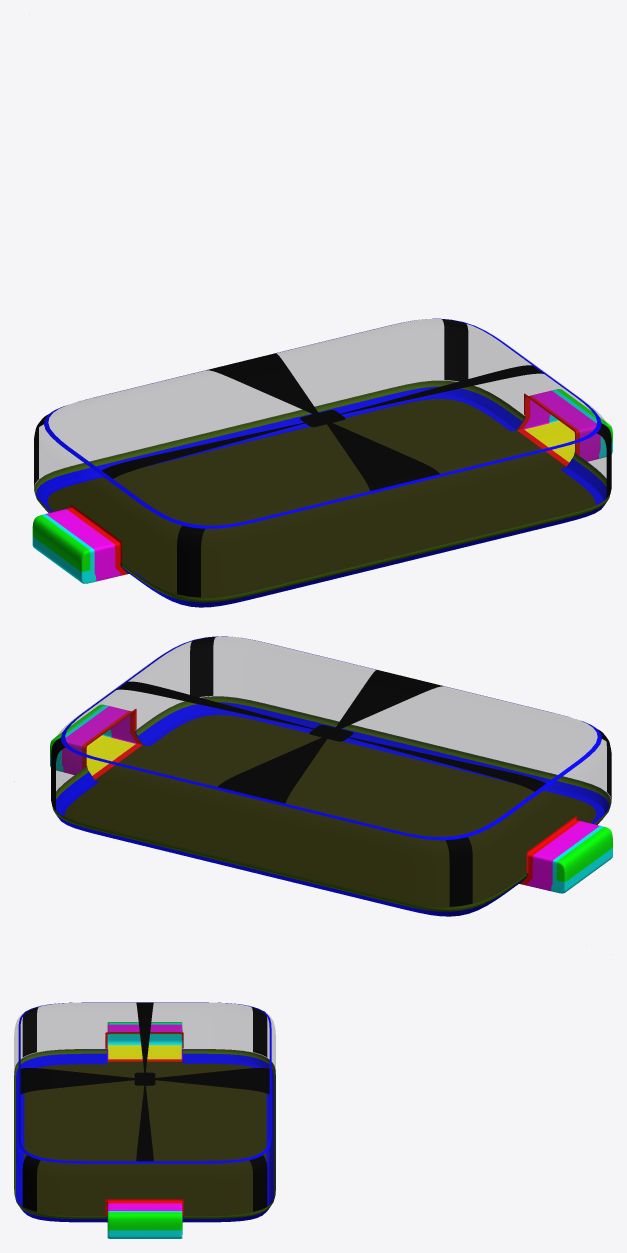
Rendered from rocketEXP.obj.
3 renders of one model, top to bottom at view 1: azimuth 30°, elevation 25°; view 2: azimuth 150°, elevation 25°; view 3: azimuth 270°, elevation 25°, orthographic. The views are drawn at different scales.
Parts seen in each view (by area): view 1: walls/roof, polySurface3408, polySurface3408.001, topo2, Cantos; view 2: walls/roof, polySurface3408, polySurface3408.001, topo2, Cantos, Preto1; view 3: walls/roof, polySurface3408, polySurface3408.001, topo2, Cantos.
Boxes of the visible parts, left/top/right/bottom form: walls/roof: left=34, top=319, right=608, bottom=596; polySurface3408: left=34, top=318, right=610, bottom=607; polySurface3408.001: left=32, top=389, right=612, bottom=583; topo2: left=101, top=353, right=543, bottom=490; Cantos: left=34, top=319, right=611, bottom=597; walls/roof: left=53, top=636, right=610, bottom=906; polySurface3408: left=52, top=636, right=611, bottom=916; polySurface3408.001: left=50, top=704, right=612, bottom=893; topo2: left=117, top=670, right=545, bottom=803; Cantos: left=51, top=636, right=611, bottom=906; Preto1: left=309, top=725, right=353, bottom=741; walls/roof: left=14, top=1003, right=275, bottom=1214; polySurface3408: left=14, top=1002, right=275, bottom=1222; polySurface3408.001: left=105, top=1022, right=183, bottom=1238; topo2: left=20, top=1002, right=269, bottom=1161; Cantos: left=22, top=1007, right=267, bottom=1211.
Size of the model in its own units: 2.98 by 1.38 by 3.85.
